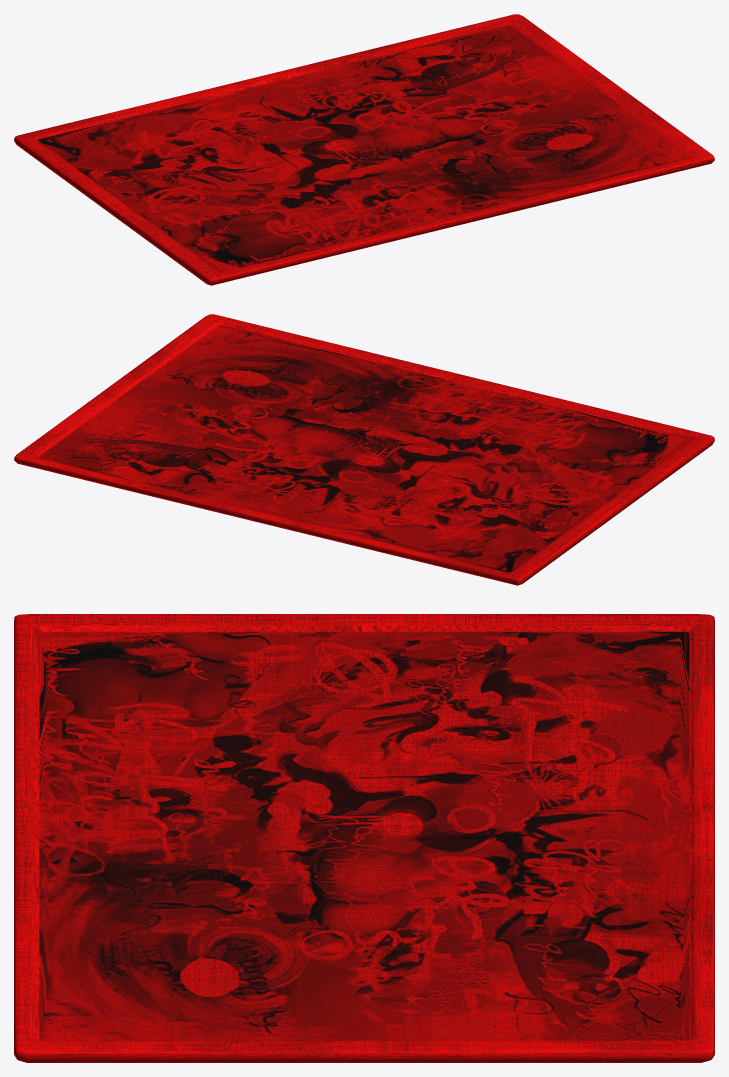
Rendered from placemat2.fbx.
3 views of the same model, one above another, from view 1: azimuth 30°, elevation 25°; view 2: azimuth 150°, elevation 25°; view 3: azimuth 270°, elevation 25° (orthographic). The views are drawn at different scales.
Visible parts, largest first — view 1: pCube1; view 2: pCube1; view 3: pCube1.
Boxes of the visible parts, x1=… form: pCube1: x1=14, y1=14, x2=714, y2=285; pCube1: x1=14, y1=314, x2=714, y2=585; pCube1: x1=14, y1=614, x2=714, y2=1062.
Bounding box in the file's own units: 2.27 × 0.0311 × 1.53.
